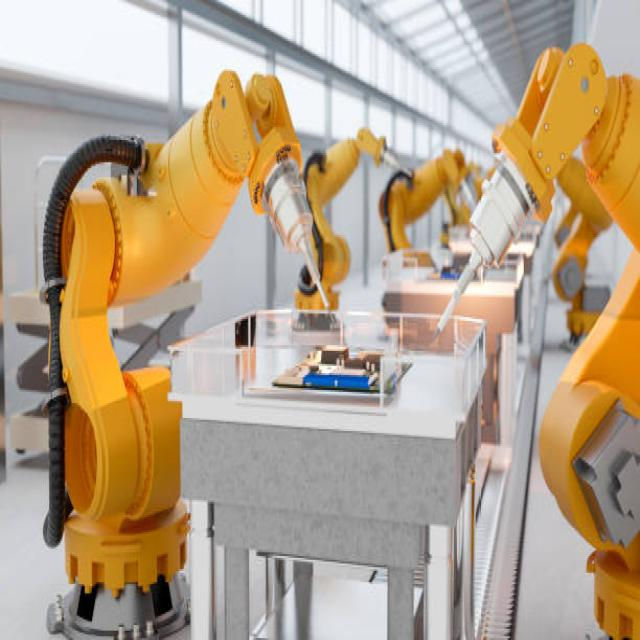Robotic-arm: (43, 56, 331, 623), (473, 36, 640, 640), (304, 102, 413, 321), (386, 128, 481, 256)
